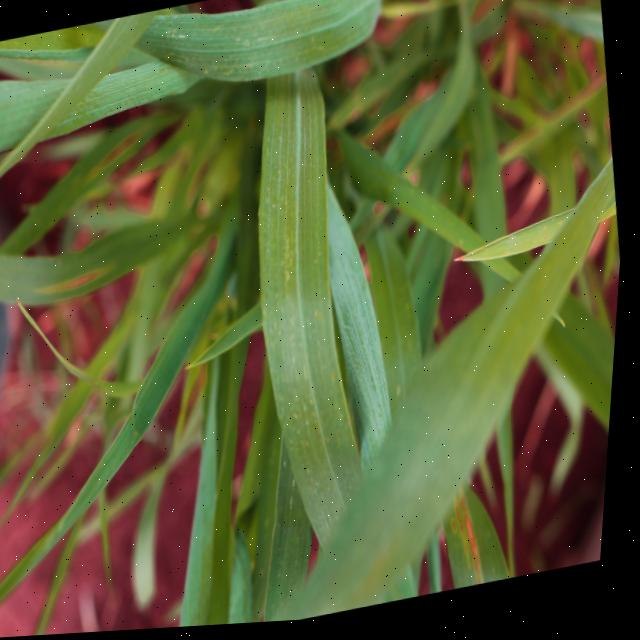healthy_wheat: (92, 0, 484, 634), (0, 33, 187, 167), (547, 324, 621, 487), (342, 82, 434, 166)
yellow_rust: (446, 496, 520, 597), (35, 251, 130, 313)
